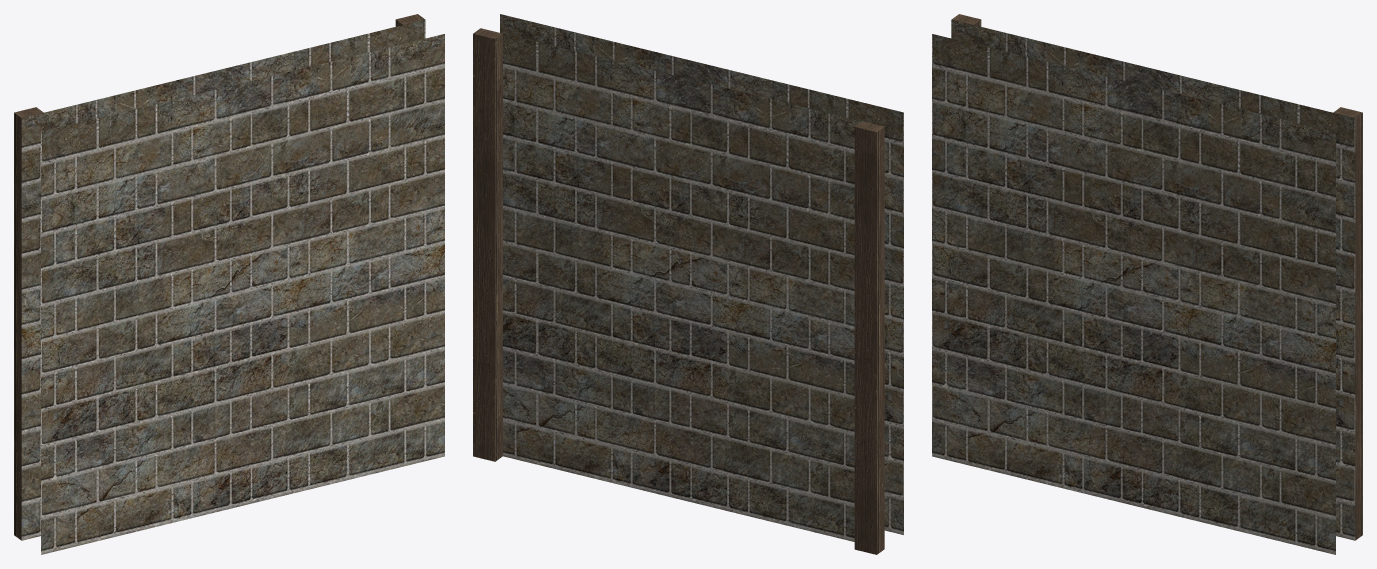
The model's file is ARC1010223.fbx.
3 views of the same model, side by side, from view 1: azimuth 30°, elevation 25°; view 2: azimuth 150°, elevation 25°; view 3: azimuth 330°, elevation 25° (orthographic).
Parts seen in each view (by area): view 1: smARC1010223; view 2: smARC1010223; view 3: smARC1010223.
Part boxes in pixels (x1,y1,x2,y2): smARC1010223: (14,14,444,554); smARC1010223: (473,14,903,554); smARC1010223: (932,14,1362,554).
Size of the model in its own units: 268 by 268 by 31.1.
Materials: 1 (1 with a texture image).
